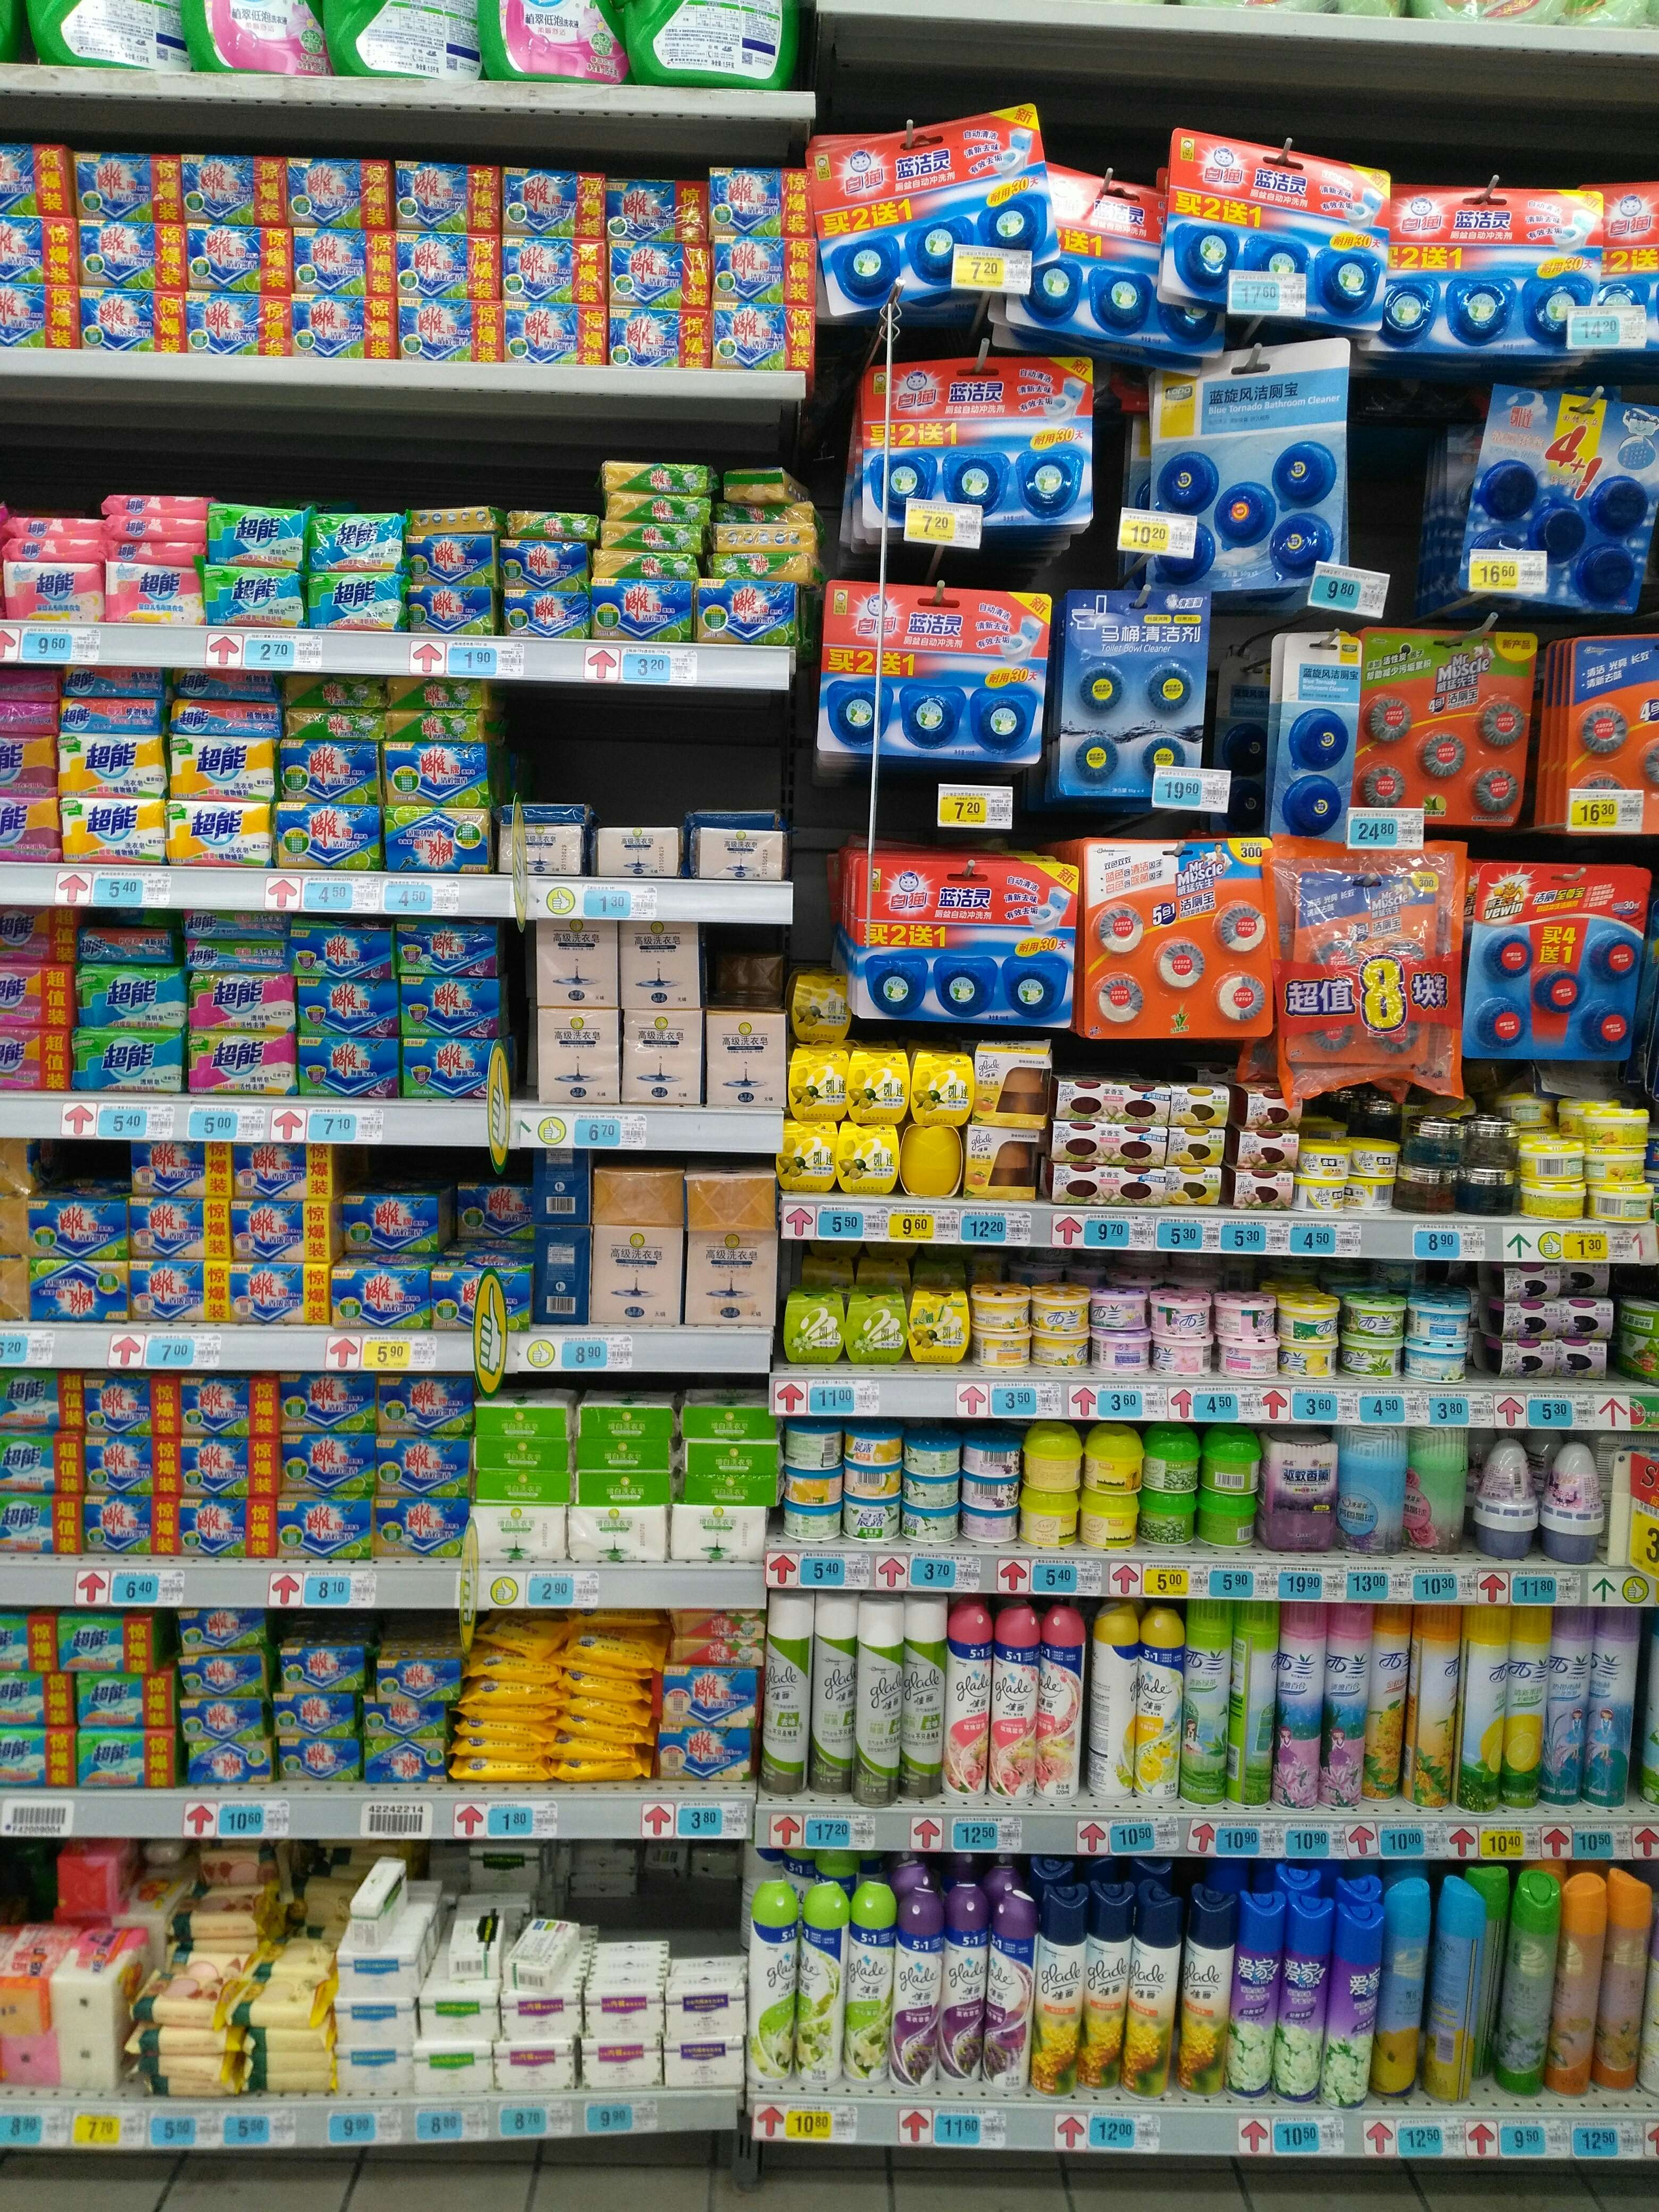Misplacement: (441, 1191, 535, 1277)
